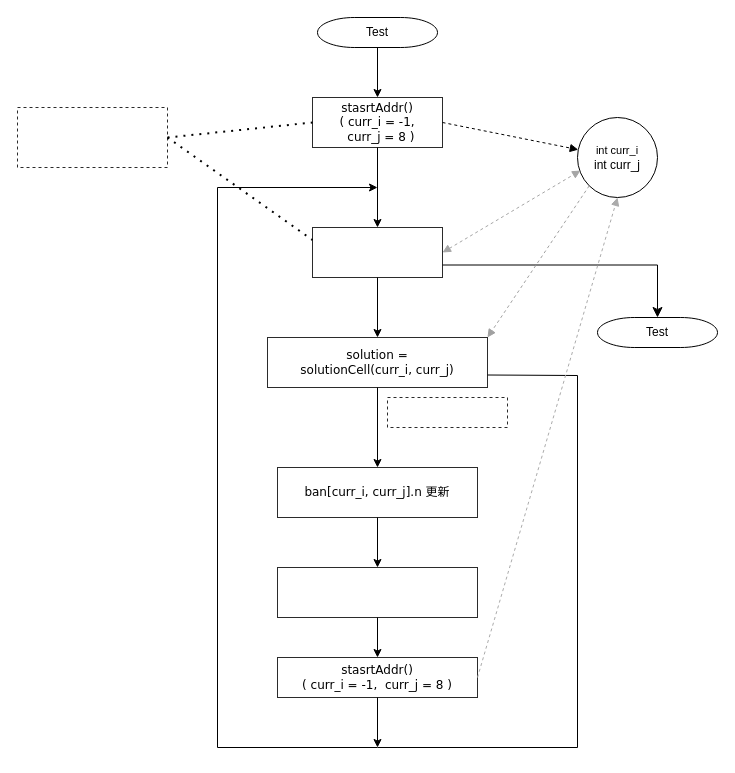
The diagram is 735 pixels wide and 773 high, and some of its shapes have lost their labels. Each missing label, with the centre of its shape:
constructCandidate() ( ban[ , ].candidate を更新する ): (x=377, y=592)
i (行 上から0,1,2, ... 8) j (列 左から1,2, ... 8): (x=92, y=137)
nextSpaceCell(): (x=377, y=252)
solution.n > 0: (x=447, y=412)
